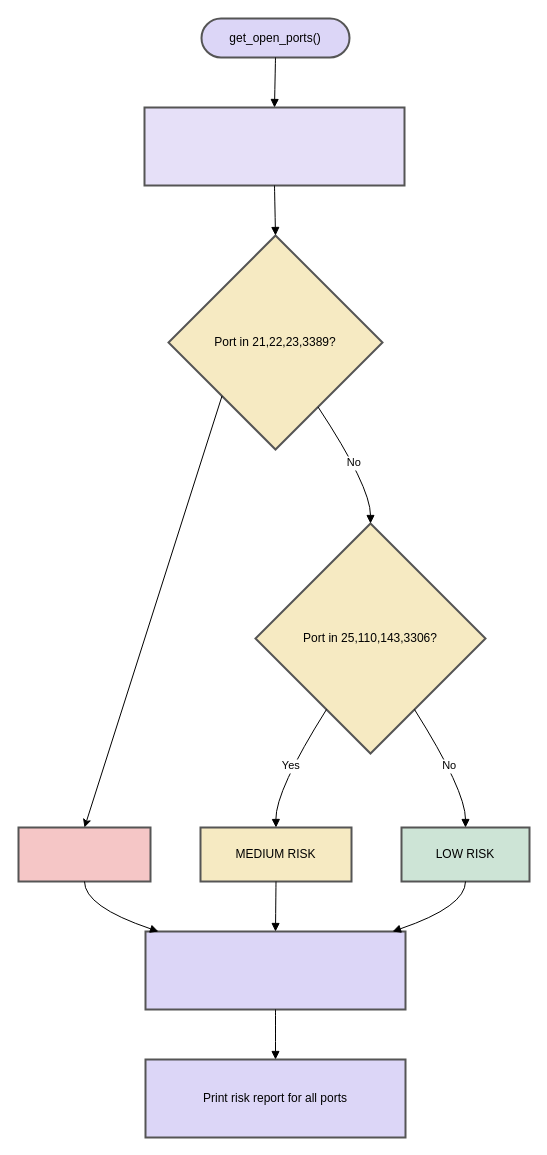
This 547x1155 diagram has some shape labels left out. The centre of each missing label's shape, as x and y in pixels:
Append (port, service, risk_level) to list: [275,970]
HIGH RISK: [84,854]
Loop through each open port: [274,146]
